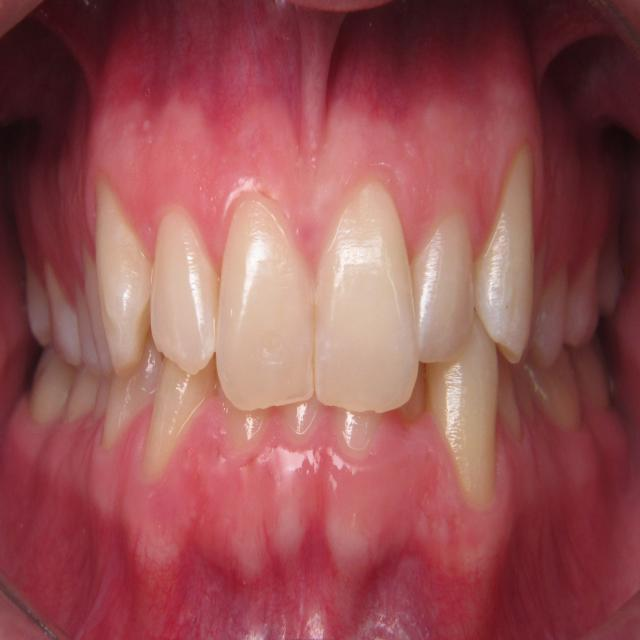tooth: (309, 208, 422, 408), (213, 202, 315, 407), (148, 224, 212, 360), (493, 165, 532, 366), (413, 229, 477, 344), (440, 359, 502, 477), (99, 223, 154, 356), (144, 357, 207, 461), (216, 395, 267, 462), (337, 408, 373, 457), (286, 414, 320, 449)
